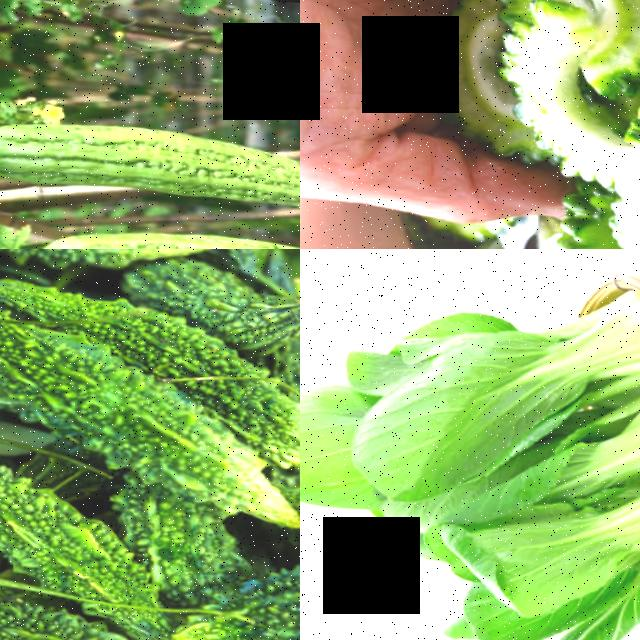bitter gourd: (0, 86, 300, 220), (524, 0, 640, 193), (0, 337, 173, 441), (43, 180, 300, 249), (0, 406, 96, 576), (10, 266, 152, 342), (157, 249, 300, 323), (174, 570, 300, 640), (0, 578, 101, 640)
bok choy: (338, 249, 640, 399), (441, 475, 640, 614), (503, 359, 640, 473)
